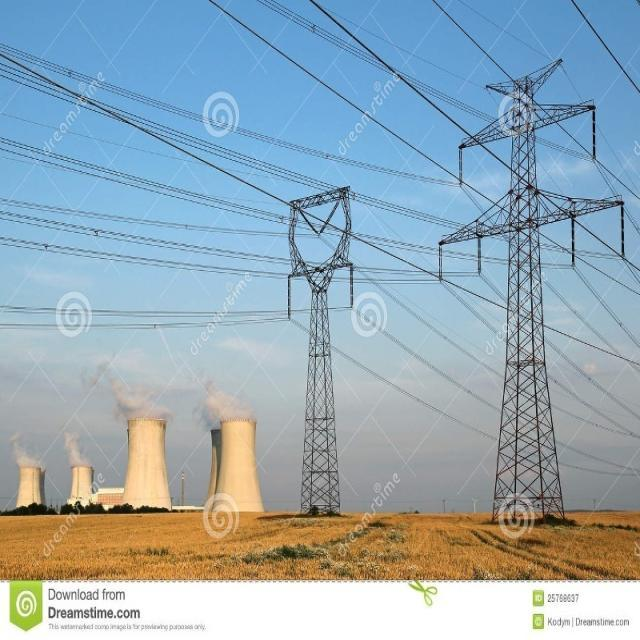non-critical vegetation: (448, 77, 614, 516), (274, 180, 356, 530)
